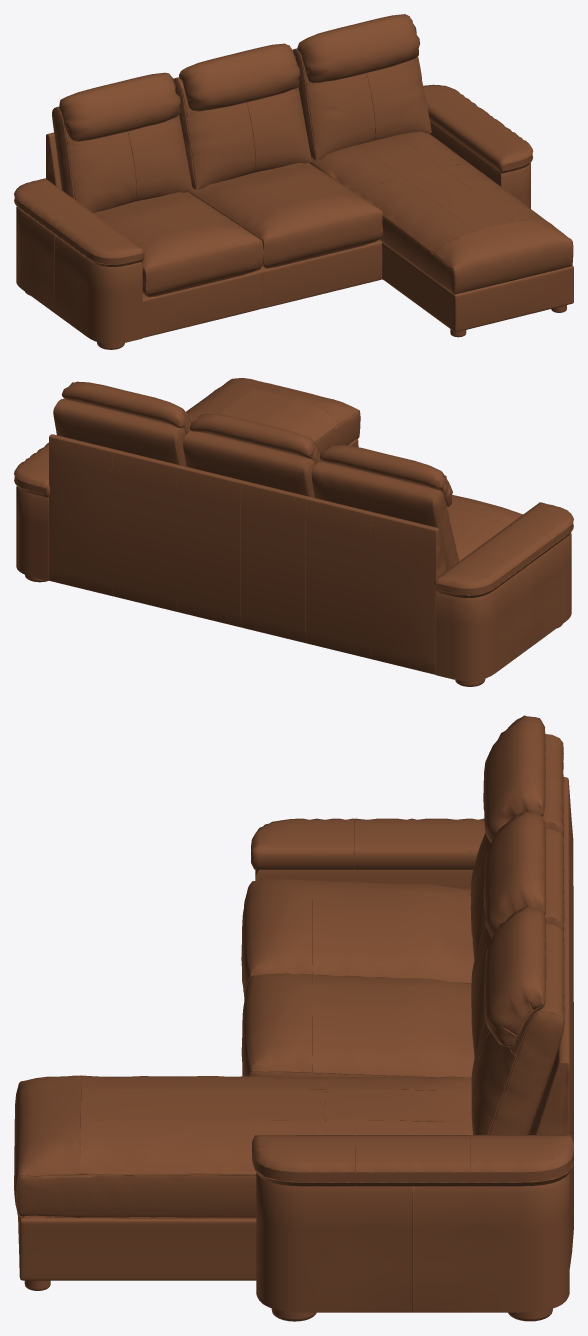
File: Lidhult_sofa_LOW.fbx
The picture shows the model from 3 angles, top to bottom: view 1: azimuth 30°, elevation 25°; view 2: azimuth 150°, elevation 25°; view 3: azimuth 270°, elevation 25°; orthographic projection. The views are drawn at different scales.
Parts seen in each view (by area): view 1: Sofa; view 2: Sofa; view 3: Sofa, Base.
Part boxes in pixels (left/top/right/bottom): Sofa: left=14, top=14, right=573, bottom=344; Sofa: left=14, top=378, right=573, bottom=681; Sofa: left=14, top=715, right=573, bottom=1312; Base: left=24, top=1280, right=552, bottom=1321.
Bounding box in the file's own units: 259 × 106 × 175.
